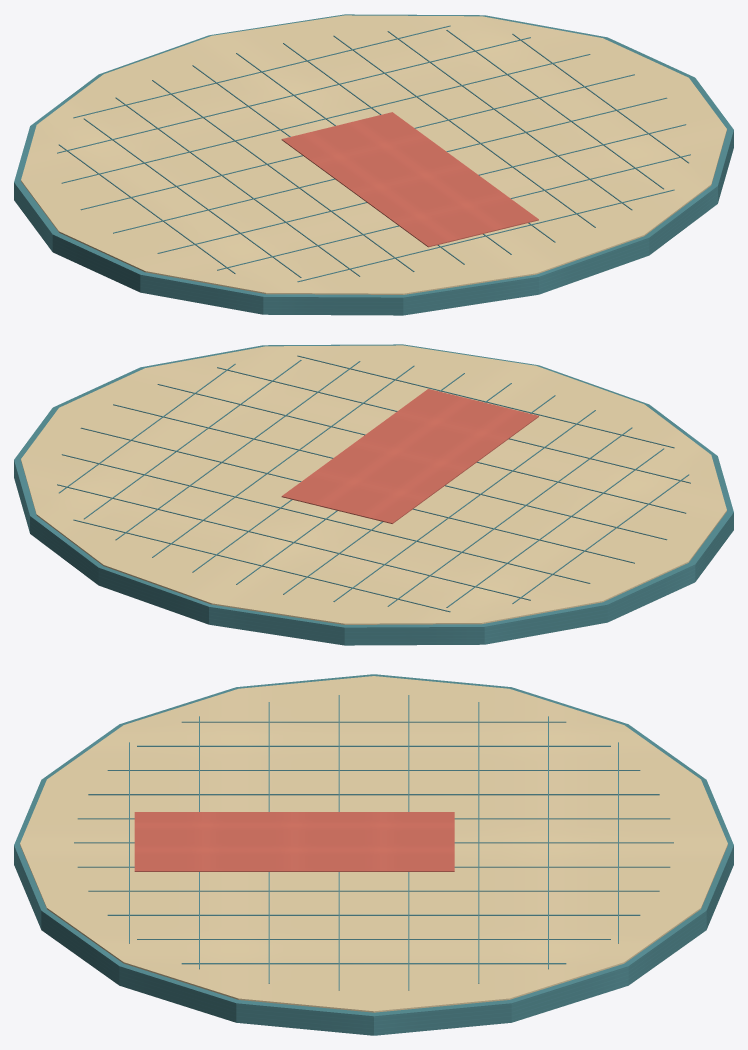
The model's file is atlas100-s072-a07.glb.
3 views of the same model, one above another, from view 1: azimuth 30°, elevation 25°; view 2: azimuth 150°, elevation 25°; view 3: azimuth 270°, elevation 25° (orthographic). The views are drawn at different scales.
Visible parts, largest first — view 1: atlas100-s072-a07:part-001, atlas100-s072-a07:part-000, atlas100-s072-a07:part-021, atlas100-s072-a07:part-015, atlas100-s072-a07:part-014, atlas100-s072-a07:part-016, atlas100-s072-a07:part-017, atlas100-s072-a07:part-018, atlas100-s072-a07:part-013, atlas100-s072-a07:part-020, atlas100-s072-a07:part-019, atlas100-s072-a07:part-009 (+3 smaller); view 2: atlas100-s072-a07:part-001, atlas100-s072-a07:part-000, atlas100-s072-a07:part-021, atlas100-s072-a07:part-015, atlas100-s072-a07:part-014, atlas100-s072-a07:part-017, atlas100-s072-a07:part-016, atlas100-s072-a07:part-018, atlas100-s072-a07:part-020, atlas100-s072-a07:part-013, atlas100-s072-a07:part-019, atlas100-s072-a07:part-009 (+3 smaller); view 3: atlas100-s072-a07:part-001, atlas100-s072-a07:part-000, atlas100-s072-a07:part-021, atlas100-s072-a07:part-009, atlas100-s072-a07:part-005, atlas100-s072-a07:part-010, atlas100-s072-a07:part-003, atlas100-s072-a07:part-002, atlas100-s072-a07:part-012.
Part boxes in pixels (x1,y1,x2,y2): atlas100-s072-a07:part-001: (21,15,726,294); atlas100-s072-a07:part-000: (14,14,733,315); atlas100-s072-a07:part-021: (281,112,538,247); atlas100-s072-a07:part-015: (61,54,590,183); atlas100-s072-a07:part-014: (57,37,530,153); atlas100-s072-a07:part-016: (80,74,634,210); atlas100-s072-a07:part-017: (113,97,667,233); atlas100-s072-a07:part-018: (157,124,686,253); atlas100-s072-a07:part-013: (73,25,450,118); atlas100-s072-a07:part-020: (297,189,674,282); atlas100-s072-a07:part-019: (217,154,690,270); atlas100-s072-a07:part-009: (333,35,595,227); atlas100-s072-a07:part-001: (21,345,726,624); atlas100-s072-a07:part-000: (14,344,733,645); atlas100-s072-a07:part-021: (281,389,538,523); atlas100-s072-a07:part-015: (61,454,590,583); atlas100-s072-a07:part-014: (57,484,530,600); atlas100-s072-a07:part-017: (113,404,667,540); atlas100-s072-a07:part-016: (80,427,634,563); atlas100-s072-a07:part-018: (157,384,686,513); atlas100-s072-a07:part-020: (297,355,674,448); atlas100-s072-a07:part-013: (73,519,450,612); atlas100-s072-a07:part-019: (217,367,690,483); atlas100-s072-a07:part-009: (152,365,414,557); atlas100-s072-a07:part-001: (20,676,727,1012); atlas100-s072-a07:part-000: (14,674,733,1035); atlas100-s072-a07:part-021: (134,812,454,871); atlas100-s072-a07:part-009: (88,890,659,891); atlas100-s072-a07:part-005: (88,794,659,795); atlas100-s072-a07:part-010: (107,914,640,915); atlas100-s072-a07:part-003: (137,745,610,746); atlas100-s072-a07:part-002: (181,721,566,722); atlas100-s072-a07:part-012: (181,963,566,964).
Size of the model in its own units: 12.75 by 0.404 by 11.34.
3 materials, 3 textured.
